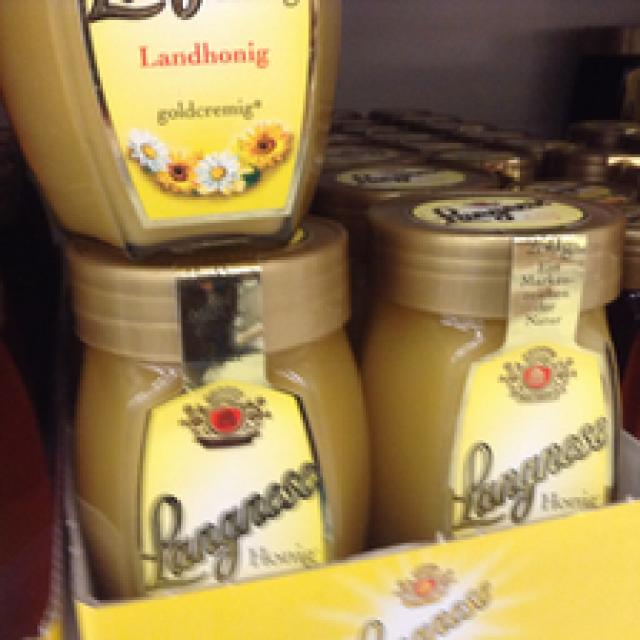groceries: (60, 214, 371, 589), (366, 186, 623, 548)
